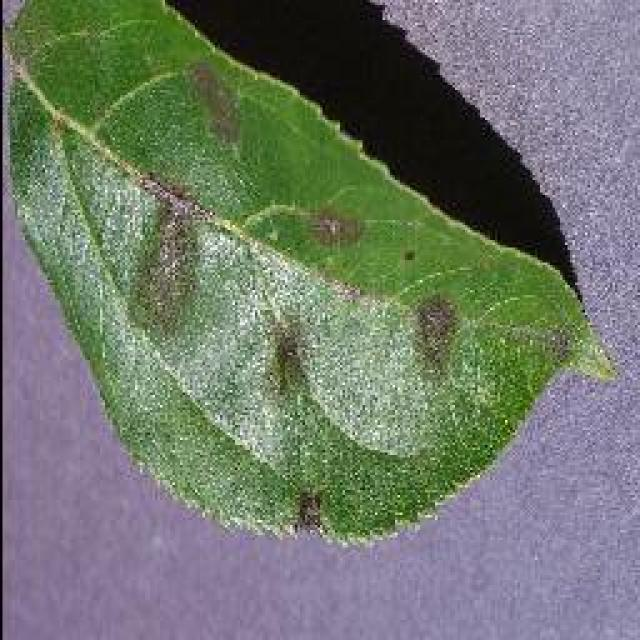apple scab disease: (2, 0, 618, 548)
